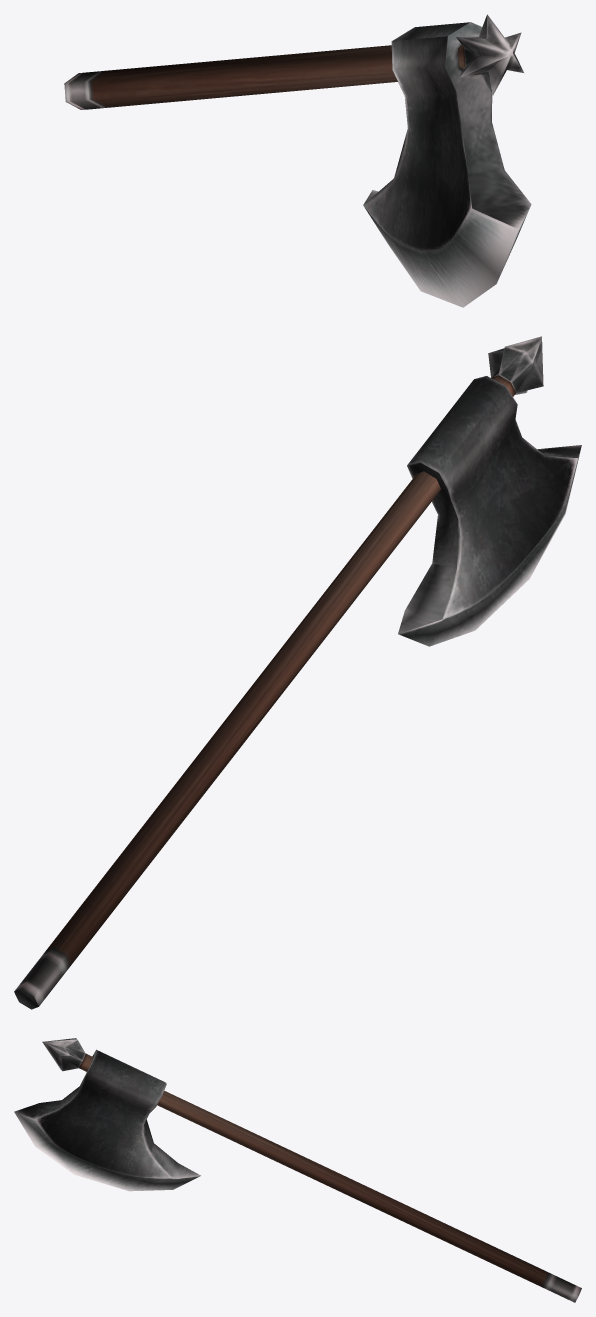
File: Berserker-righthandweapon00.FBX
3 views of the same model, one above another, from view 1: azimuth 30°, elevation 25°; view 2: azimuth 150°, elevation 25°; view 3: azimuth 270°, elevation 25° (orthographic). The views are drawn at different scales.
Parts seen in each view (by area): view 1: new_pivot_axe00; view 2: new_pivot_axe00; view 3: new_pivot_axe00.
Boxes of the visible parts, x1,y1,x2,y2 form: new_pivot_axe00: (64, 14, 531, 307); new_pivot_axe00: (14, 336, 581, 1009); new_pivot_axe00: (14, 1038, 581, 1302).
Size of the model in its own units: 36.34 by 102 by 218.
